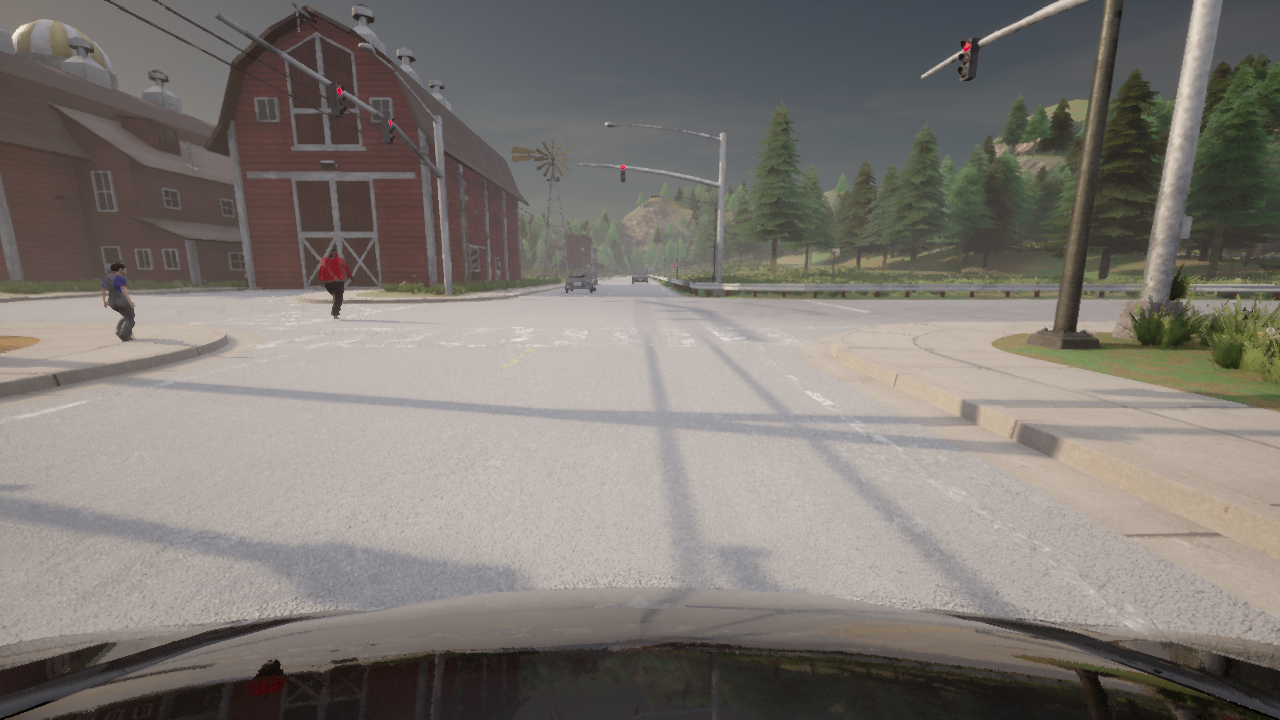cyclist: (0, 588, 1279, 719), (565, 267, 596, 293), (630, 270, 650, 284)
pedestrian: (101, 262, 135, 342), (318, 248, 355, 320)
